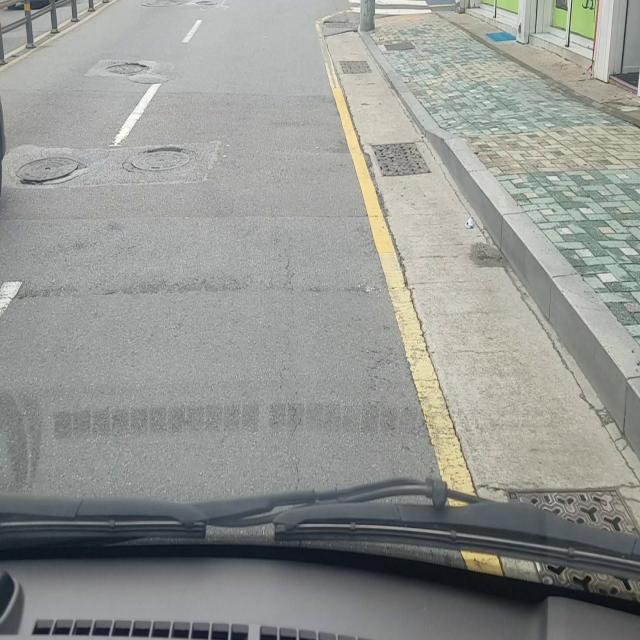Pothole: (14, 156, 88, 188)
